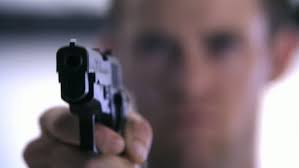gun: (53, 36, 136, 158)
